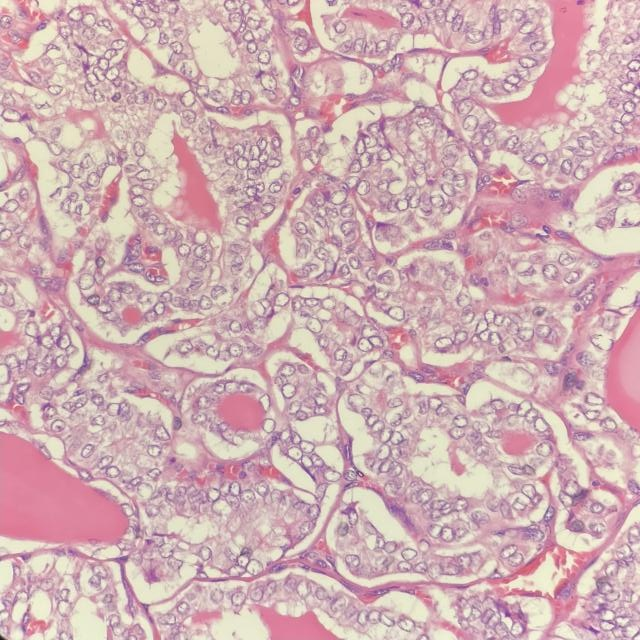TC: (338, 385, 374, 411), (384, 298, 413, 325), (372, 262, 397, 291), (430, 330, 454, 356), (252, 294, 273, 322), (302, 315, 328, 337), (325, 187, 350, 209), (339, 216, 361, 240), (250, 477, 274, 499), (341, 503, 360, 529), (330, 345, 353, 366), (278, 359, 302, 379), (321, 464, 345, 484), (303, 500, 325, 521), (218, 377, 242, 396), (316, 296, 341, 314), (382, 463, 407, 481), (397, 546, 423, 563), (360, 321, 380, 343), (275, 287, 295, 309), (226, 340, 248, 360), (258, 416, 280, 435), (384, 395, 406, 413), (278, 383, 300, 401), (416, 487, 436, 506), (377, 427, 395, 445), (291, 220, 309, 237), (227, 479, 243, 498), (225, 319, 243, 335)
